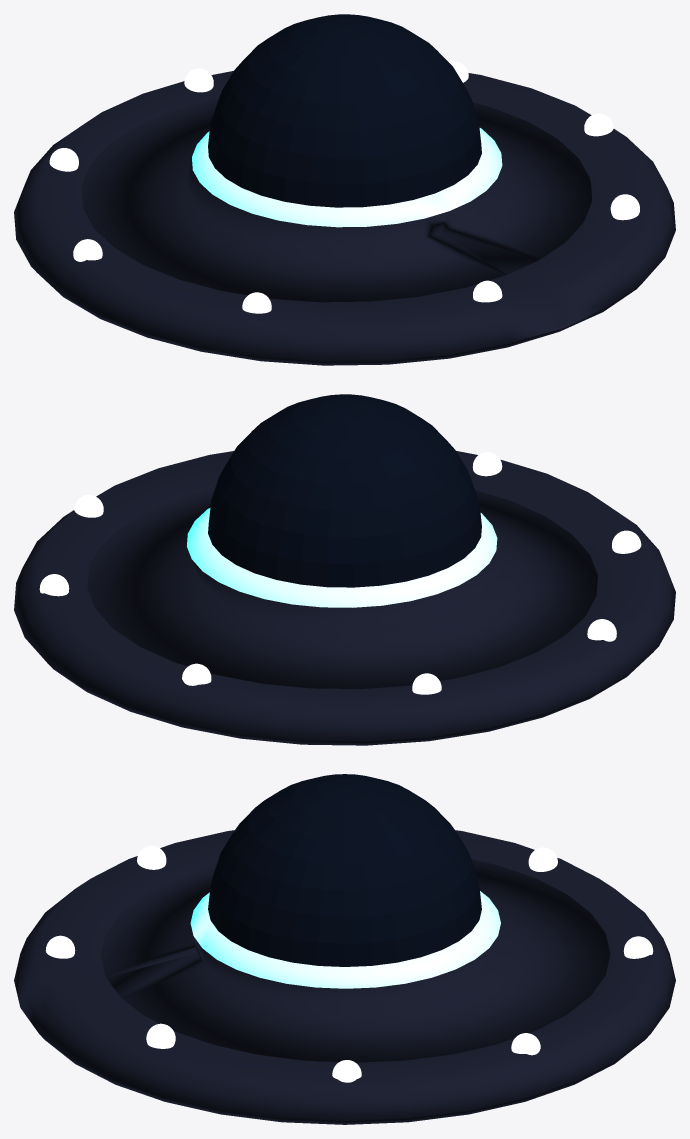
Rendered from ufob.gltf.
3 renders of one model, top to bottom at view 1: azimuth 30°, elevation 25°; view 2: azimuth 150°, elevation 25°; view 3: azimuth 270°, elevation 25°, orthographic.
Parts seen in each view (by area): view 1: body, glass, Sphere.002, Sphere.005, Sphere.006, Sphere.007, Sphere.009, Sphere, Sphere.008; view 2: body, glass, Sphere, Sphere.008, Sphere.007, Sphere.009, Sphere.004, Sphere.005, Sphere.006; view 3: body, glass, Sphere.002, Sphere.006, Sphere.008, Sphere, Sphere.005, Sphere.004, Sphere.009.
Part boxes in pixels (<box>): body: <box>14,71,675,365</box>; glass: <box>208,14,481,207</box>; Sphere.002: <box>610,194,639,220</box>; Sphere.005: <box>184,68,213,92</box>; Sphere.006: <box>49,148,78,171</box>; Sphere.007: <box>73,239,102,261</box>; Sphere.009: <box>584,113,613,136</box>; Sphere: <box>473,280,502,302</box>; Sphere.008: <box>242,292,271,313</box>; body: <box>14,451,675,745</box>; glass: <box>208,394,481,587</box>; Sphere: <box>472,452,502,476</box>; Sphere.008: <box>612,530,641,553</box>; Sphere.007: <box>587,619,616,641</box>; Sphere.009: <box>74,495,103,517</box>; Sphere.004: <box>39,574,69,596</box>; Sphere.005: <box>182,663,211,685</box>; Sphere.006: <box>412,673,441,694</box>; body: <box>14,830,675,1124</box>; glass: <box>208,774,481,966</box>; Sphere.002: <box>146,1023,175,1048</box>; Sphere.006: <box>528,847,557,871</box>; Sphere.008: <box>137,845,166,869</box>; Sphere: <box>45,935,75,958</box>; Sphere.005: <box>623,936,653,958</box>; Sphere.004: <box>511,1033,540,1055</box>; Sphere.009: <box>332,1060,361,1082</box>.
Size of the model in its own units: 89.1 by 29.84 by 89.1.
